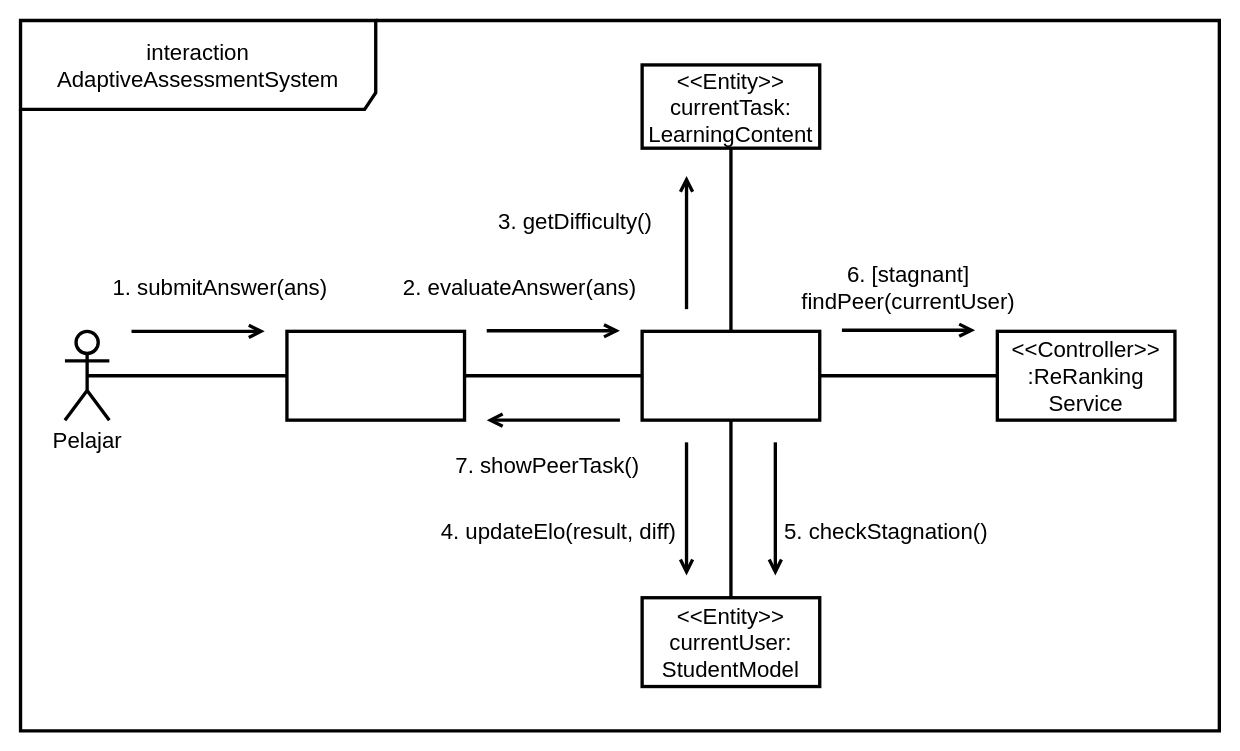
The diagram is 1240 pixels wide and 751 high, and some of its shapes have lost their labels. The shapes that lost their labels are listed below. From the top down, each one's centre as x and y in pixels, then its label:
At point 375,375: "<<Boundary>> :Learning Interface".
At point 730,375: "<<Controller>> :Assessment Controller".
